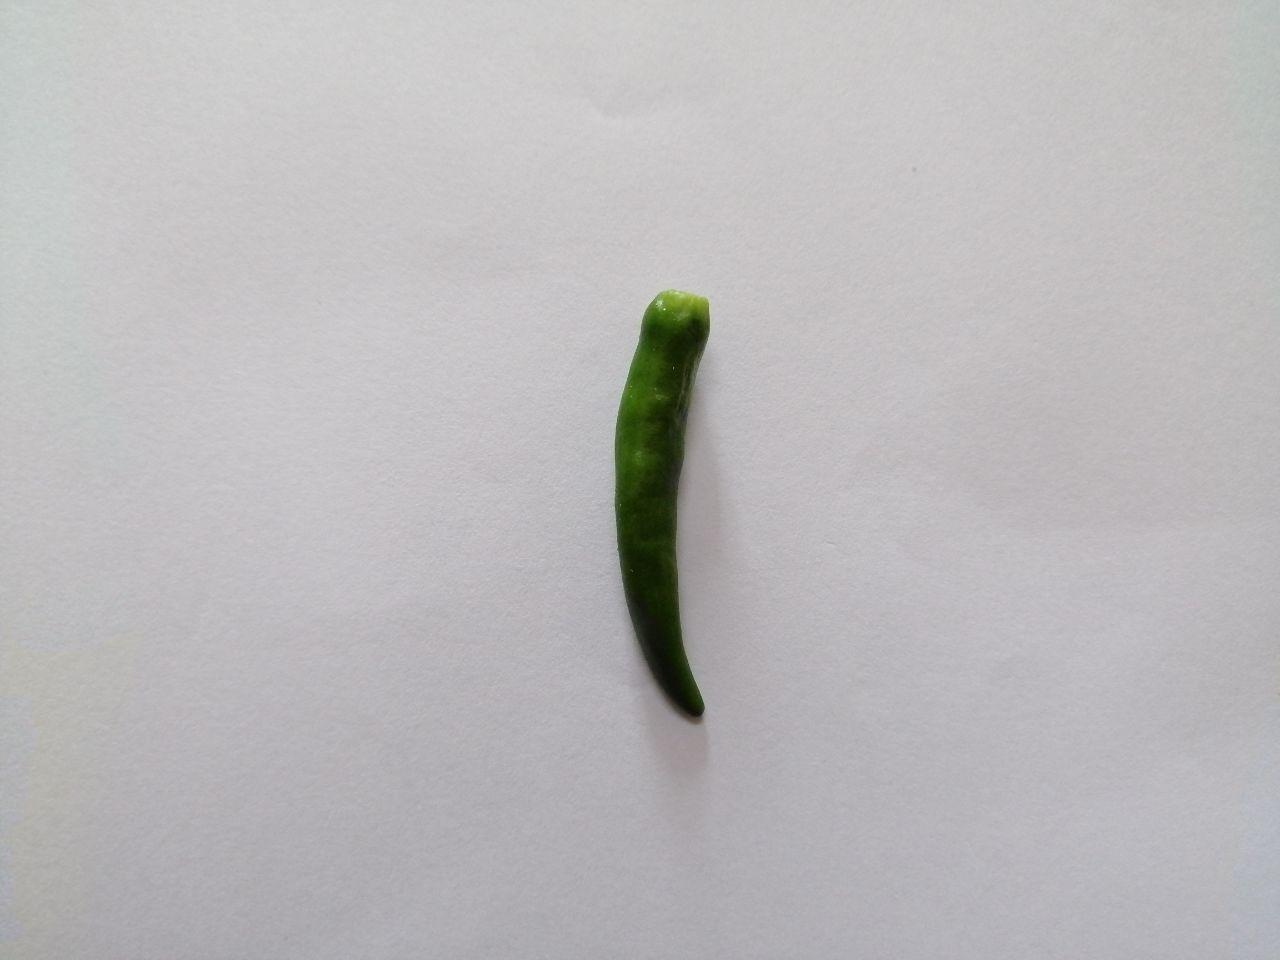lada hijau: (597, 272, 746, 737)
